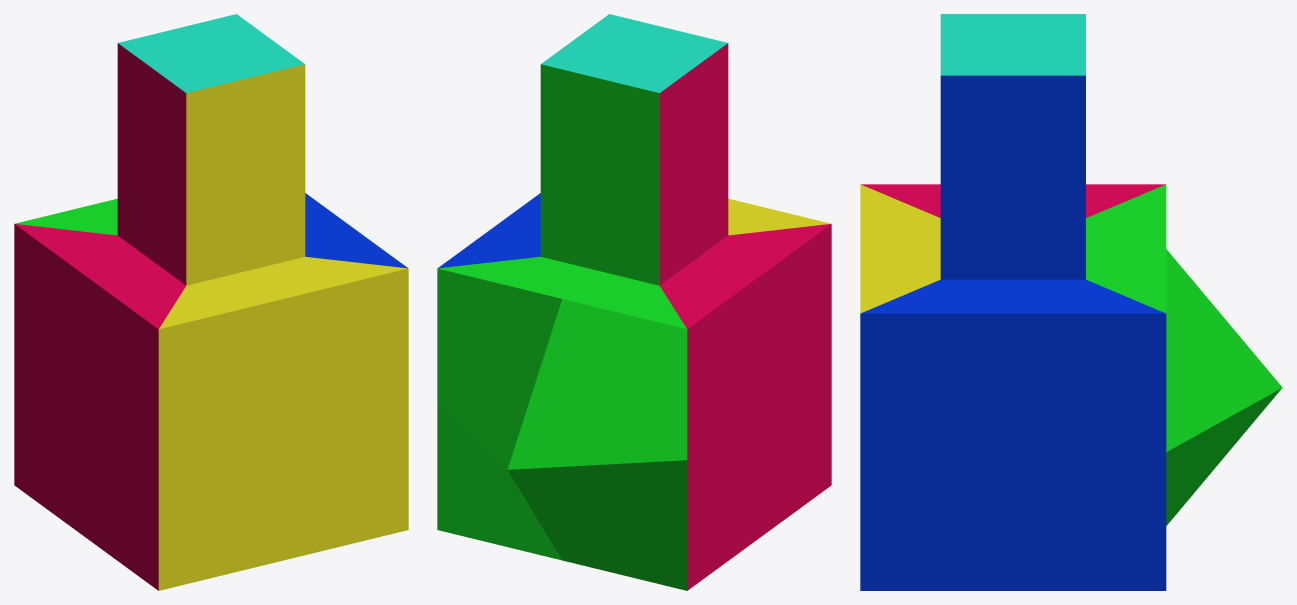
3 views of the same model, side by side, from view 1: azimuth 30°, elevation 25°; view 2: azimuth 150°, elevation 25°; view 3: azimuth 270°, elevation 25° (orthographic). The views are drawn at different scales.
Parts seen in each view (by area): view 1: 立方体; view 2: 立方体; view 3: 立方体.
Part boxes in pixels (x1,y1,x2,y2): 立方体: (14, 14, 408, 590); 立方体: (437, 14, 831, 590); 立方体: (860, 14, 1282, 590).
Bounding box in the file's own units: 200 × 347 × 276.
